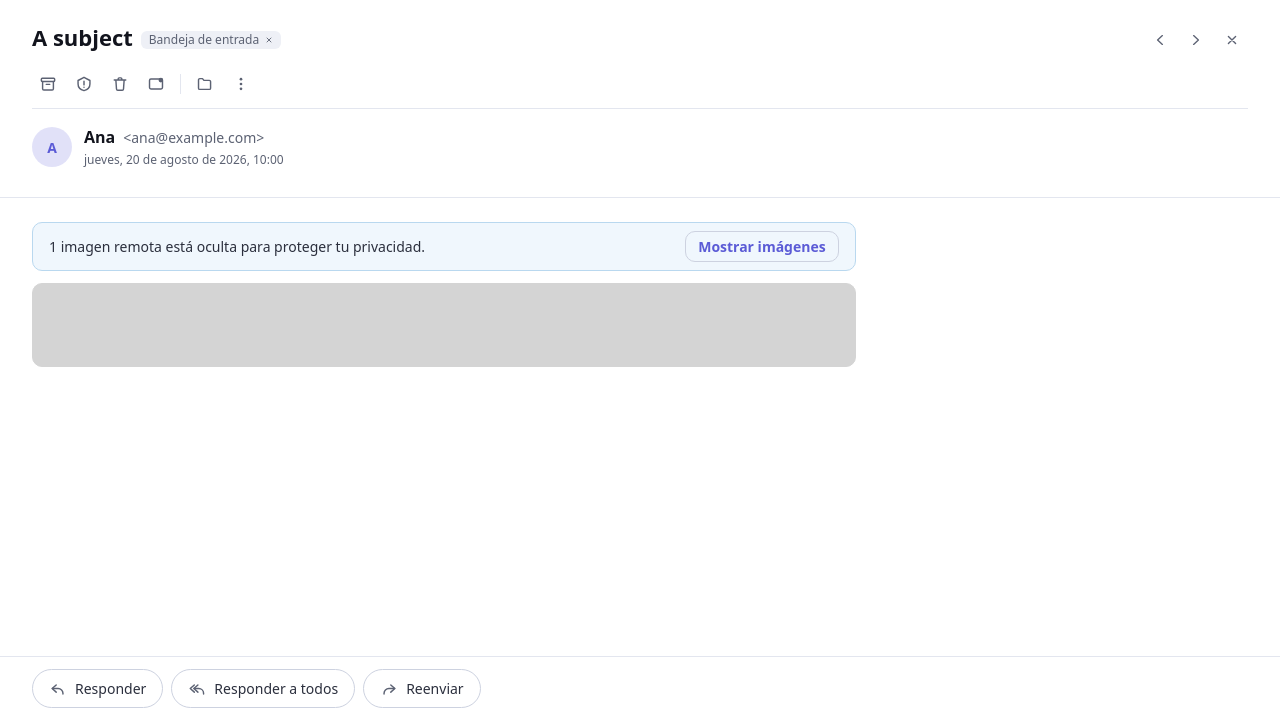
Test: the completed toolbar (E2 item 3) › keeps star, print and view-original — one click away, in the ⋮
The width and height of the screenshot is (1280, 720).
Expected: the button "ver original" is not shown
Step 1. Click the button named "más acciones" → {"x": 241, "y": 84}, box [225, 68, 257, 100]
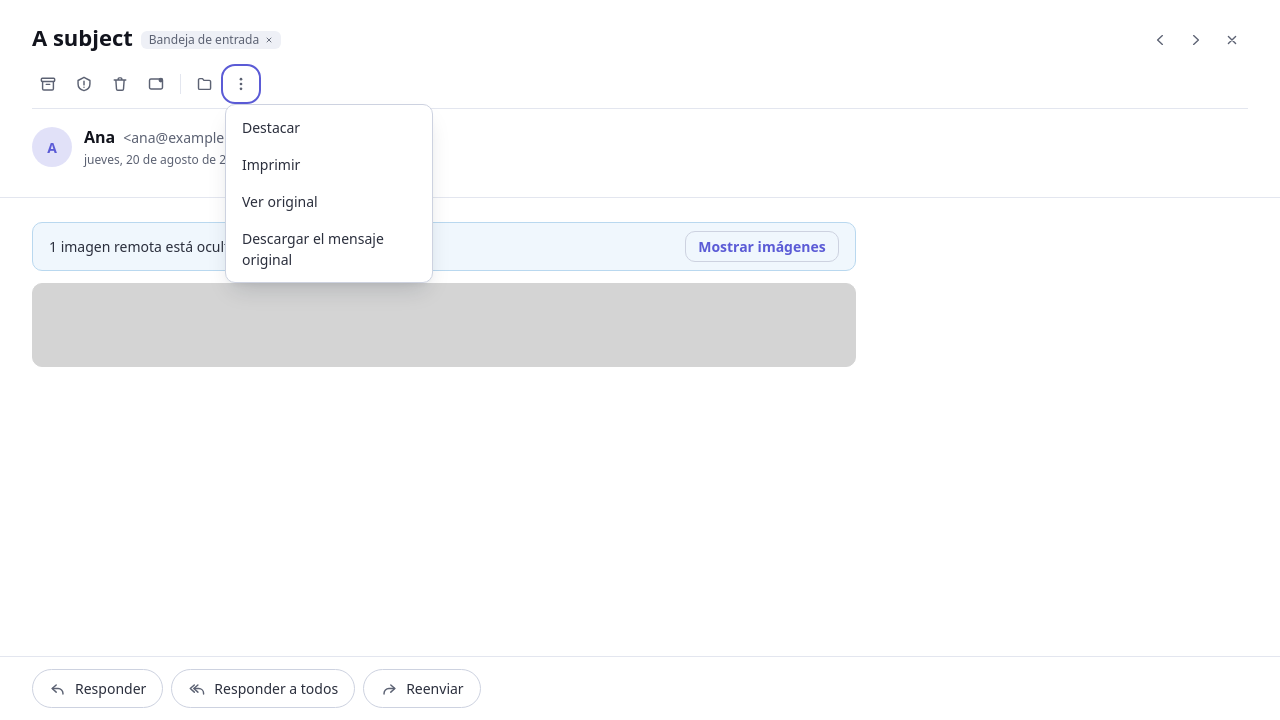
Result: the menu item "Destacar" is shown at [230, 109, 428, 146]
Result: the menu item "Imprimir" is shown at [230, 146, 428, 183]
Result: the menu item "Ver original" is shown at [230, 183, 428, 220]
